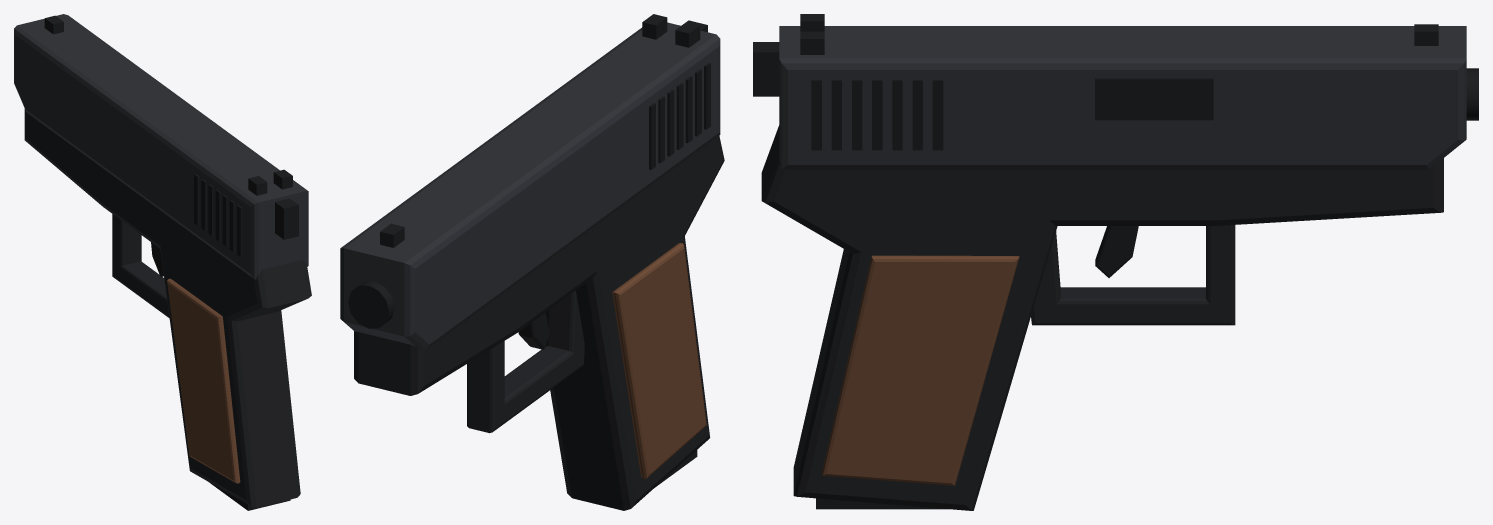
File: gun.glb
3 renders of one model, left to right at view 1: azimuth 30°, elevation 25°; view 2: azimuth 150°, elevation 25°; view 3: azimuth 270°, elevation 25°, orthographic. The views are drawn at different scales.
Parts seen in each view (by area): view 1: gun; view 2: gun; view 3: gun.
Part boxes in pixels (x1,y1,x2,y2): gun: (14, 14, 311, 510); gun: (340, 14, 724, 510); gun: (753, 14, 1478, 510).
Size of the model in its own units: 0.3 by 1.49 by 2.08.
